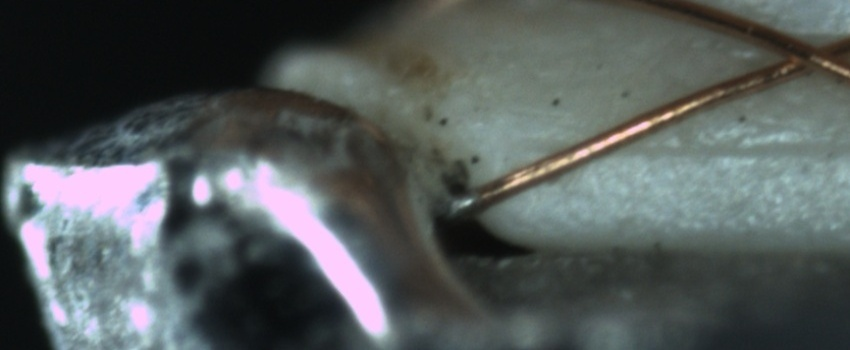CL: (759, 26, 848, 84)
DL: (538, 114, 850, 180)
TS: (443, 188, 477, 219)
